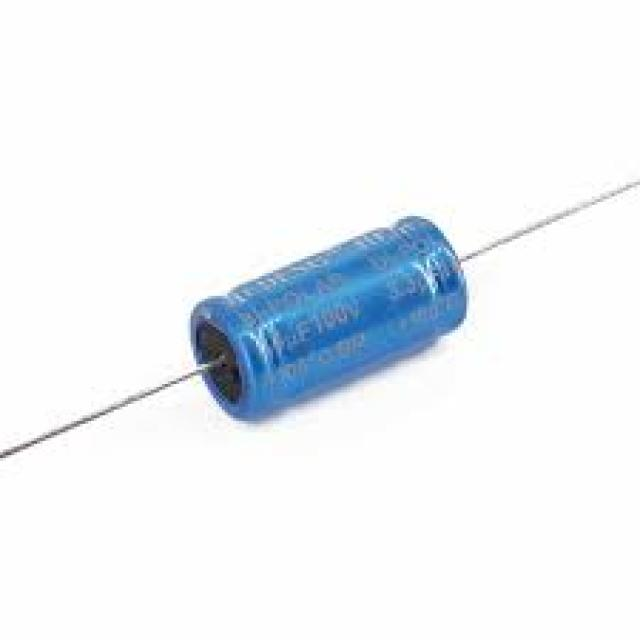Capacitor: (0, 179, 640, 464)
